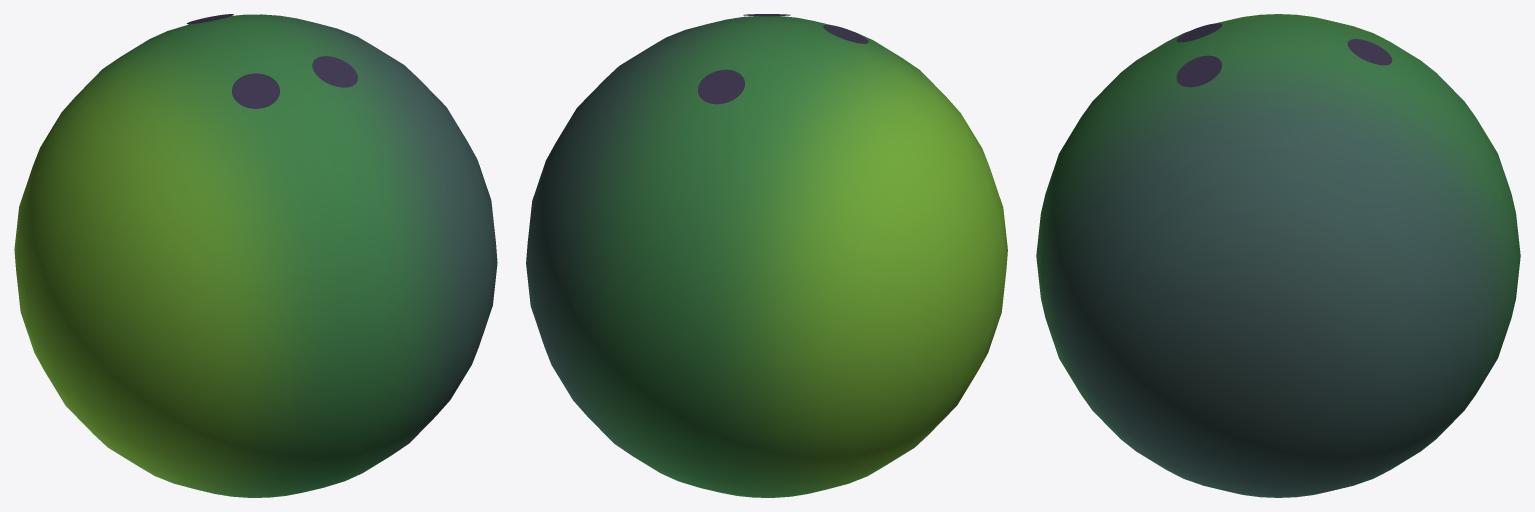
The model's file is ball_green.gltf.
3 renders of one model, left to right at view 1: azimuth 30°, elevation 25°; view 2: azimuth 150°, elevation 25°; view 3: azimuth 270°, elevation 25°, orthographic.
Parts seen in each view (by area): view 1: bowlingBall.002; view 2: bowlingBall.002; view 3: bowlingBall.002.
Boxes of the visible parts, x1,y1,x2,y2 form: bowlingBall.002: (14, 14, 497, 497); bowlingBall.002: (526, 14, 1007, 497); bowlingBall.002: (1036, 14, 1520, 497).
Size of the model in its own units: 0.25 by 0.25 by 0.25.
Materials: 1 (1 with a texture image).
